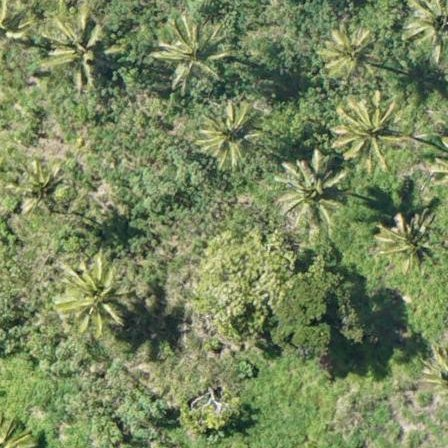palm_tree: (150, 15, 235, 95), (326, 92, 403, 174), (54, 251, 131, 332), (270, 151, 342, 228), (198, 95, 263, 165), (314, 17, 375, 82), (371, 208, 432, 273), (50, 12, 111, 77), (10, 159, 67, 215), (403, 1, 448, 51)
